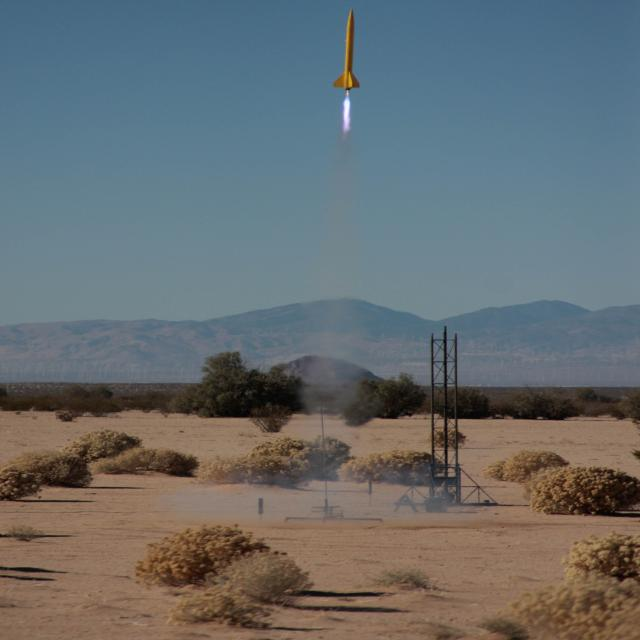Rocket: (332, 6, 361, 90)
